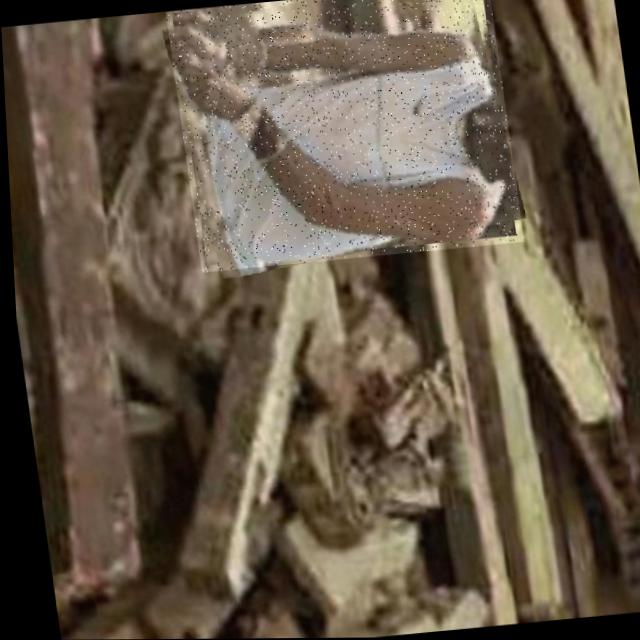Person in Rubble: (163, 0, 521, 272)
